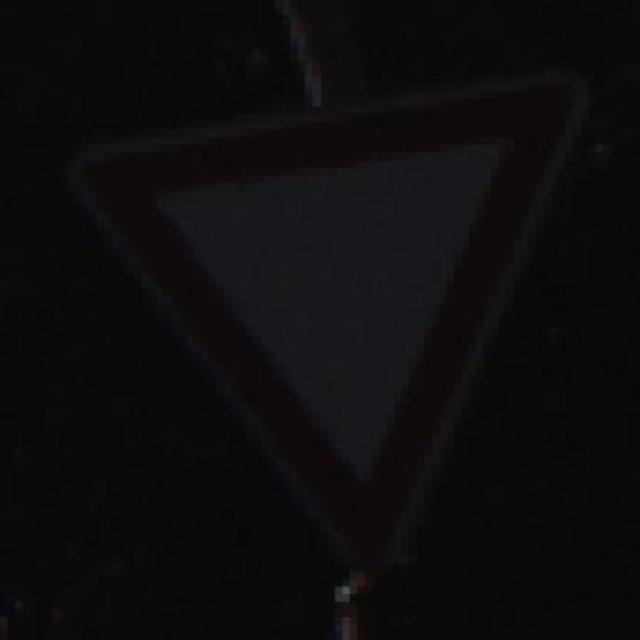Give Way: (52, 61, 633, 610)
